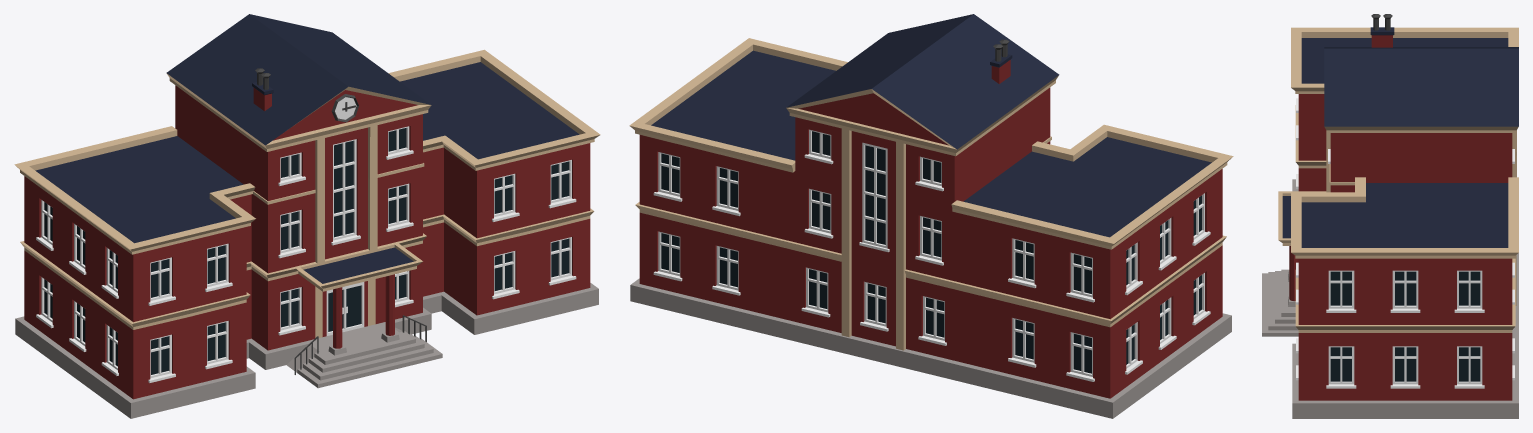
File: building-school.2d230deb.glb
3 views of the same model, side by side, from view 1: azimuth 30°, elevation 25°; view 2: azimuth 150°, elevation 25°; view 3: azimuth 270°, elevation 25° (orthographic). The views are drawn at different scales.
Parts seen in each view (by area): view 1: building-school; view 2: building-school; view 3: building-school.
Boxes of the visible parts, x1,y1,x2,y2 form: building-school: (14,14,600,418); building-school: (629,14,1233,418); building-school: (1262,14,1518,418).
Size of the model in its own units: 24.9 by 13.72 by 12.01.
